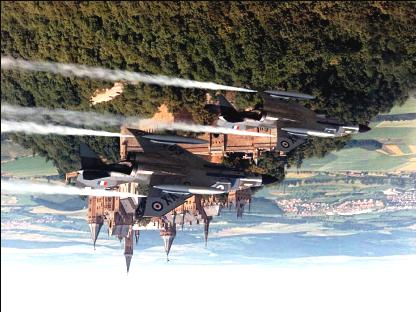F35: (73, 127, 277, 217), (212, 84, 370, 152)
